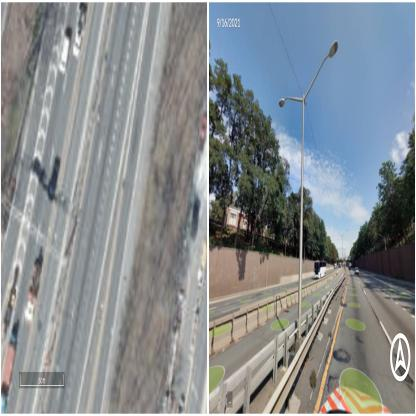Streetlights 1: (148, 80, 166, 130)
